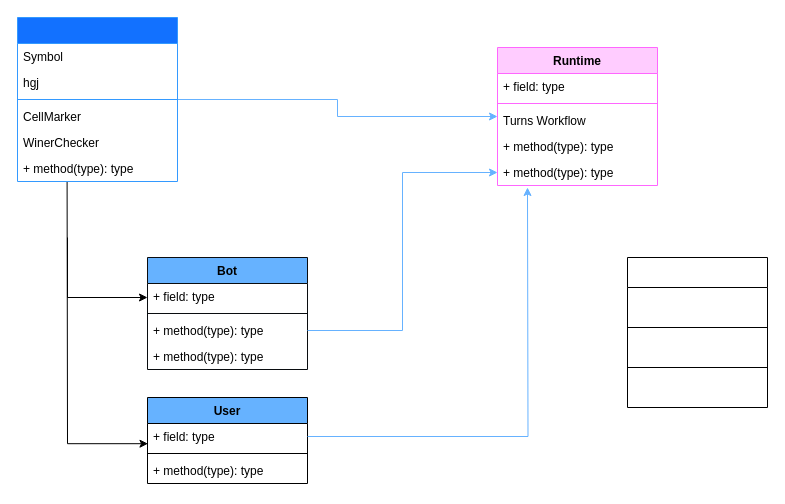
Some shapes in this 785 by 504 pixel diagram are drawn without their labels. The shapes that lost their labels are listed below. From the top down, each one's box as (x1, y1, x2, y2) in pixels, then its label:
(16, 16, 178, 182): Players
(626, 256, 768, 408): WinnerChecker
